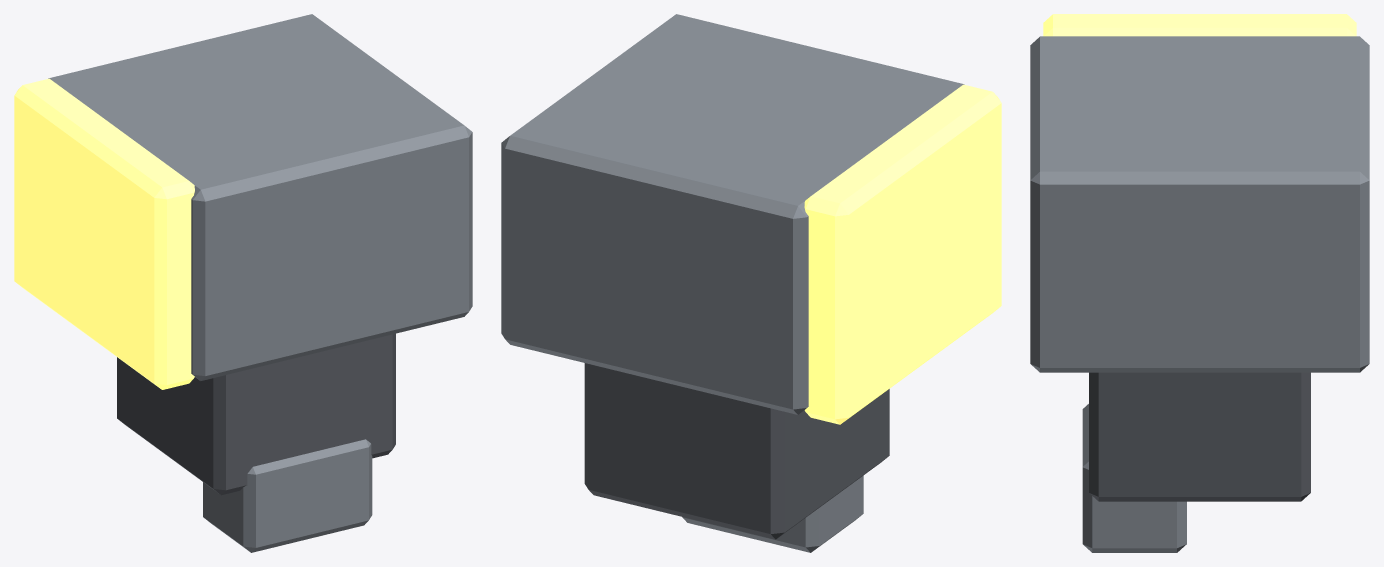
Rendered from tankhead_arm_left_upper.glb.
3 renders of one model, left to right at view 1: azimuth 30°, elevation 25°; view 2: azimuth 150°, elevation 25°; view 3: azimuth 270°, elevation 25°, orthographic. The views are drawn at different scales.
Visible parts, largest first — view 1: tankhead_arm_left_upper; view 2: tankhead_arm_left_upper; view 3: tankhead_arm_left_upper.
Boxes of the visible parts, x1=… form: tankhead_arm_left_upper: x1=14, y1=14, x2=472, y2=552; tankhead_arm_left_upper: x1=501, y1=14, x2=1001, y2=552; tankhead_arm_left_upper: x1=1030, y1=14, x2=1369, y2=552.
Size of the model in its own units: 0.58 by 0.72 by 0.52.
